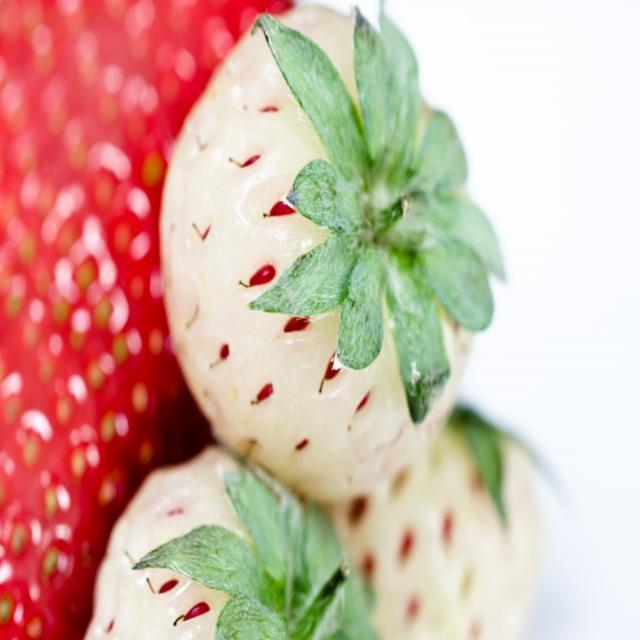Strawberry: (0, 7, 292, 639), (160, 1, 501, 508), (85, 442, 363, 640), (347, 405, 547, 640)
